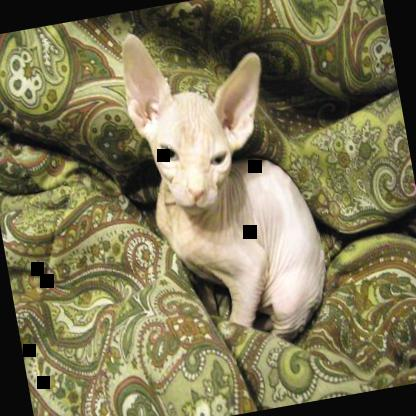cat: (114, 6, 336, 362)
